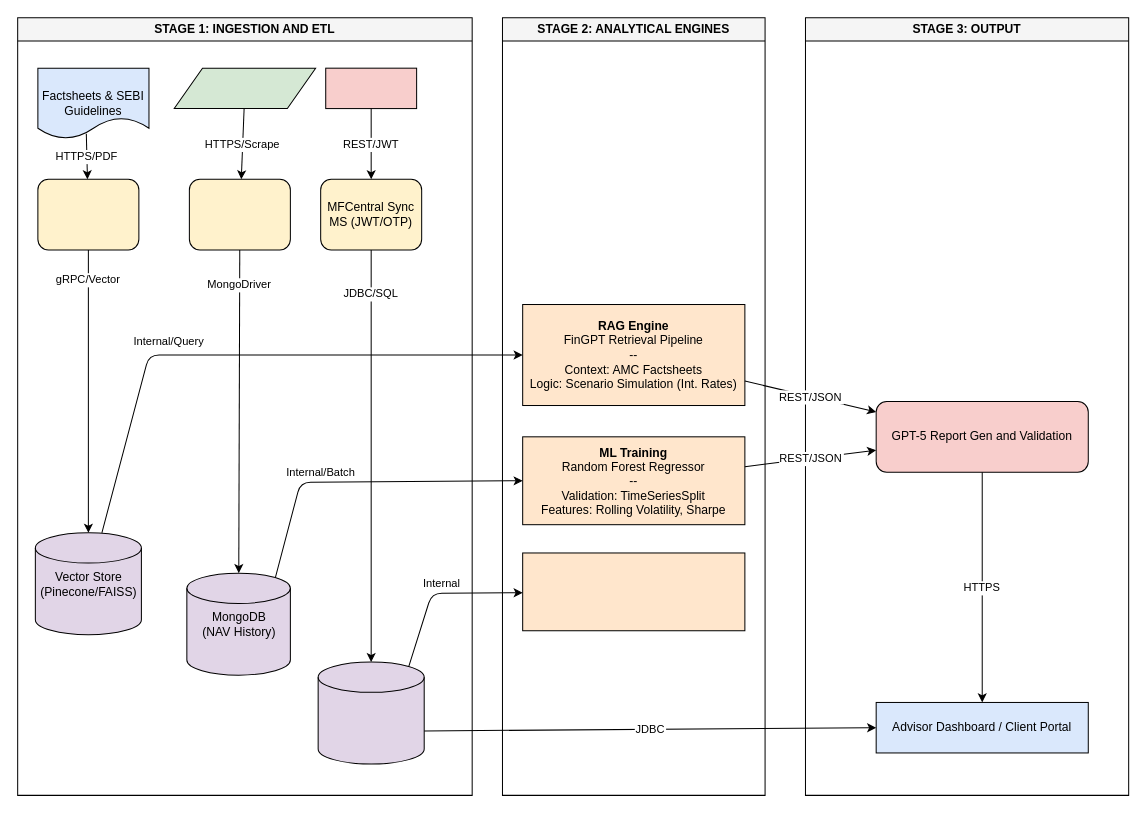
This 1146x813 diagram has some shape labels left out. Here are the shapes that lost their labels. From the top down, the centre of each, then its label:
point (244, 88): AMFI 5-Year NAV History
point (371, 88): MFCentral API
point (88, 214): AMC Scheme MS (FinGPT/OCR)
point (239, 214): NAV MS (Daily Scraper)
point (633, 591): OFF-TRACK LOGIC TESTER Simulated Interest Rate and Sector Corrections
point (370, 712): SQL DB (User Folios)
